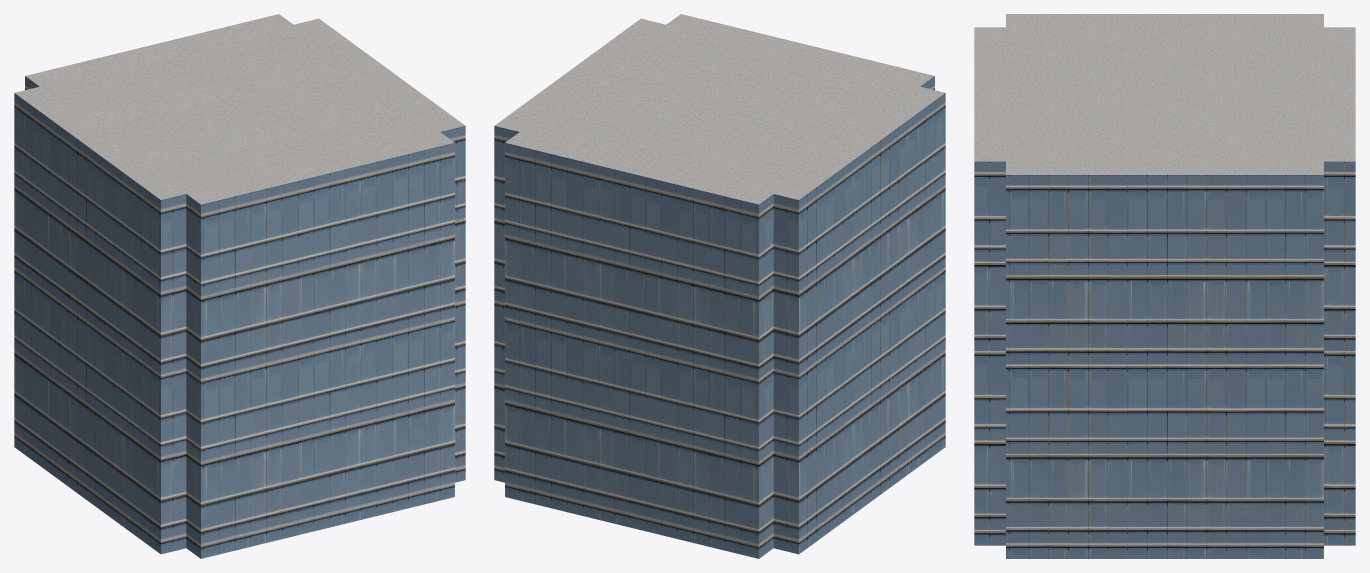
File: building_018_001.glb
3 renders of one model, left to right at view 1: azimuth 30°, elevation 25°; view 2: azimuth 150°, elevation 25°; view 3: azimuth 270°, elevation 25°, orthographic. The views are drawn at different scales.
Visible parts, largest first — view 1: building_018.001; view 2: building_018.001; view 3: building_018.001.
Part boxes in pixels (x1=…): building_018.001: x1=14, y1=14, x2=465, y2=558; building_018.001: x1=494, y1=14, x2=945, y2=558; building_018.001: x1=974, y1=14, x2=1355, y2=558.
Bounding box in the file's own units: 1440 × 1600 × 1440.
2 materials, 2 textured.
